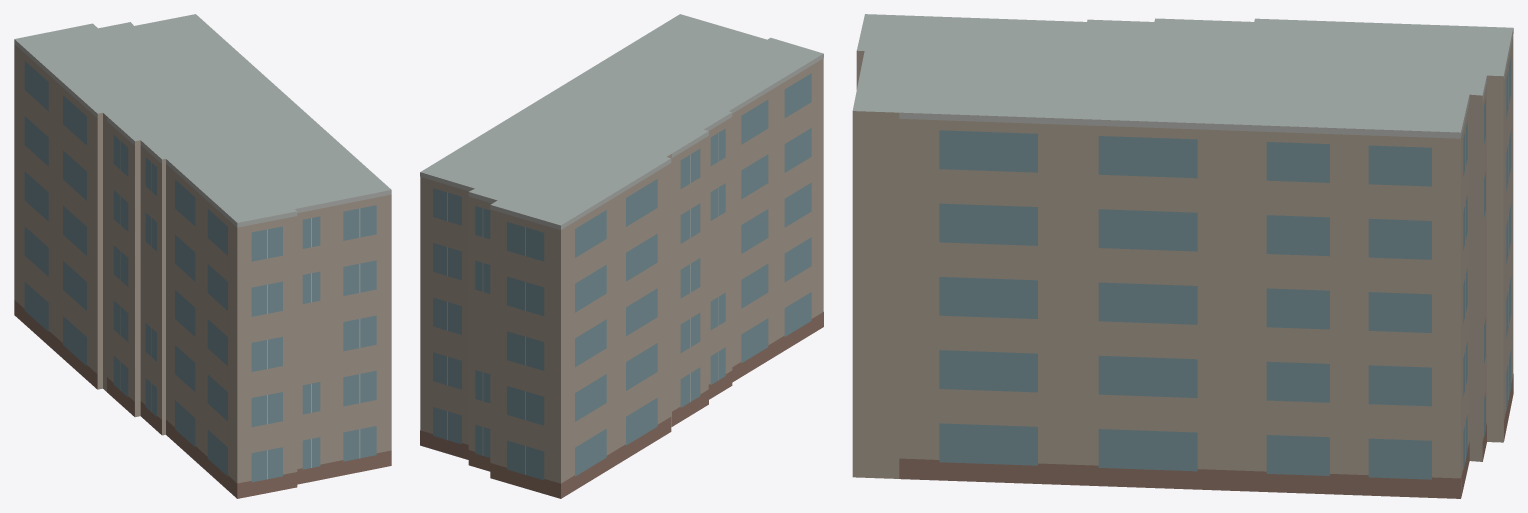
File: survey-upis-32872363.glb
3 views of the same model, side by side, from view 1: azimuth 30°, elevation 25°; view 2: azimuth 150°, elevation 25°; view 3: azimuth 270°, elevation 25° (orthographic). The views are drawn at different scales.
Visible parts, largest first — view 1: survey-upis-32872363.tmp; view 2: survey-upis-32872363.tmp; view 3: survey-upis-32872363.tmp.
Boxes of the visible parts, box(x1,y1,x2,y2) form: survey-upis-32872363.tmp: box(14, 14, 391, 498); survey-upis-32872363.tmp: box(420, 14, 823, 498); survey-upis-32872363.tmp: box(852, 14, 1513, 498).
Bounding box in the file's own units: 10.07 × 14.5 × 23.71.
